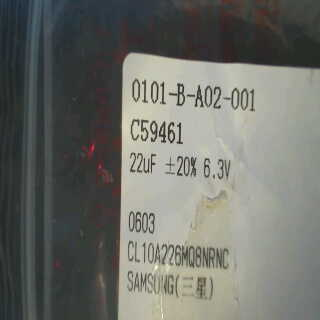22uF: (128, 149, 160, 176)
